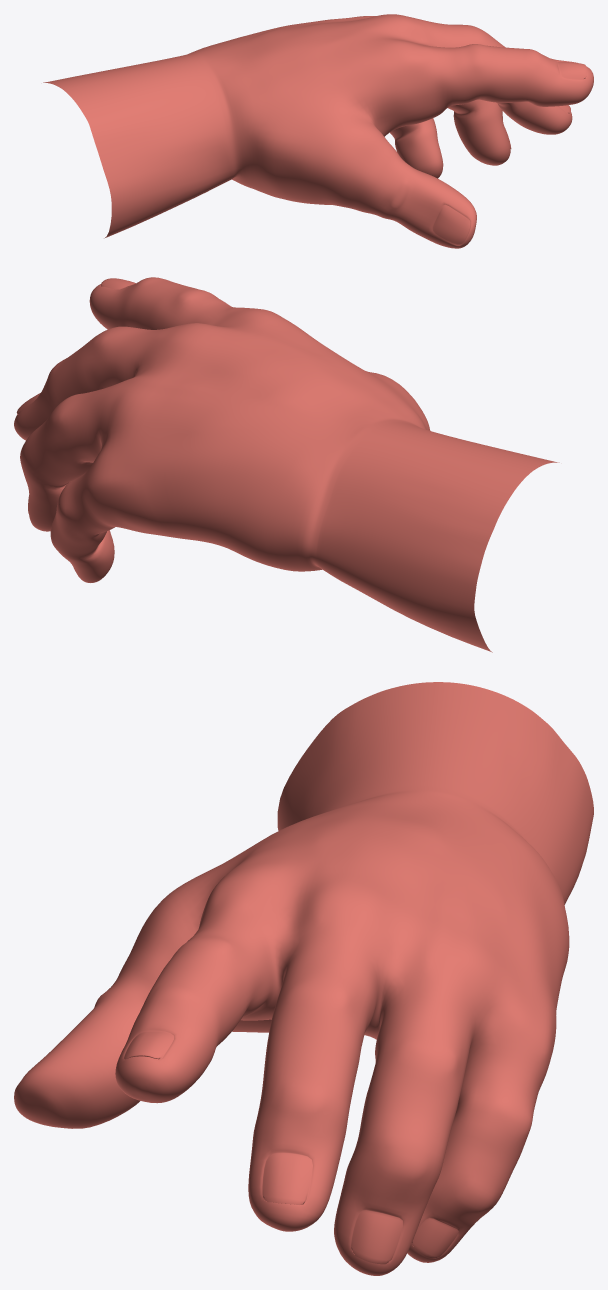
The model's file is hand05.glb.
3 views of the same model, one above another, from view 1: azimuth 30°, elevation 25°; view 2: azimuth 150°, elevation 25°; view 3: azimuth 270°, elevation 25° (orthographic). The views are drawn at different scales.
Parts seen in each view (by area): view 1: L_hand_geo1 L_hand_geo_grp; view 2: L_hand_geo1 L_hand_geo_grp; view 3: L_hand_geo1 L_hand_geo_grp.
Part boxes in pixels (box(x1,y1,x2,y2)): L_hand_geo1 L_hand_geo_grp: box(43, 14, 593, 248); L_hand_geo1 L_hand_geo_grp: box(14, 277, 559, 652); L_hand_geo1 L_hand_geo_grp: box(14, 682, 593, 1275).
Size of the model in its own units: 5.16 by 2.12 by 3.42.
